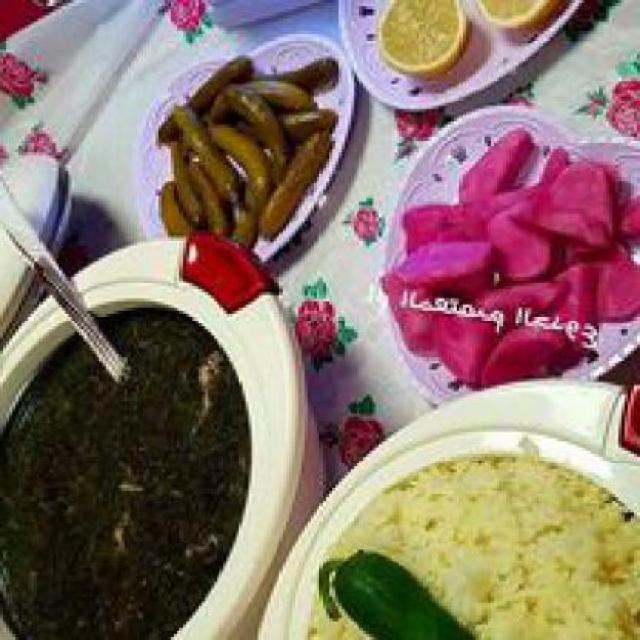molokhia: (3, 286, 265, 637)
